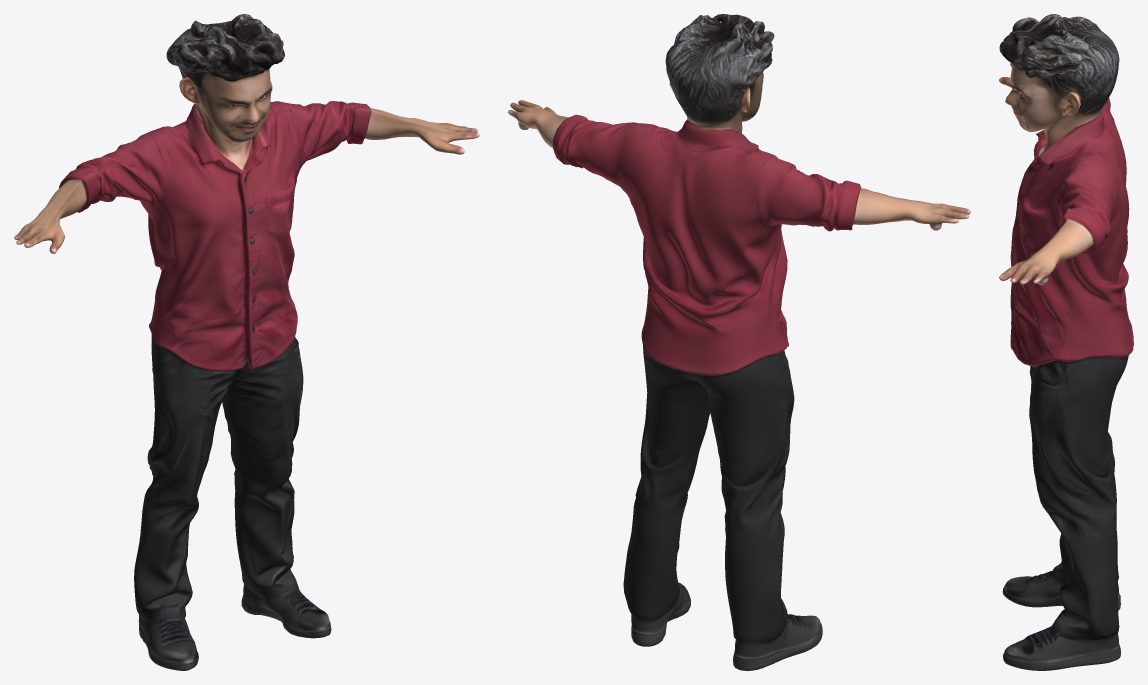
Rendered from hyper3d-photo-boy-tpose-v2.glb.
3 renders of one model, left to right at view 1: azimuth 30°, elevation 25°; view 2: azimuth 150°, elevation 25°; view 3: azimuth 270°, elevation 25°, orthographic.
Parts seen in each view (by area): view 1: model; view 2: model; view 3: model.
Part boxes in pixels (bbox=[...]): model: bbox=[14, 14, 479, 670]; model: bbox=[508, 14, 970, 670]; model: bbox=[999, 14, 1133, 670].
Bounding box in the file's own units: 1.48 × 1.9 × 0.3794.
1 material, 1 textured.
